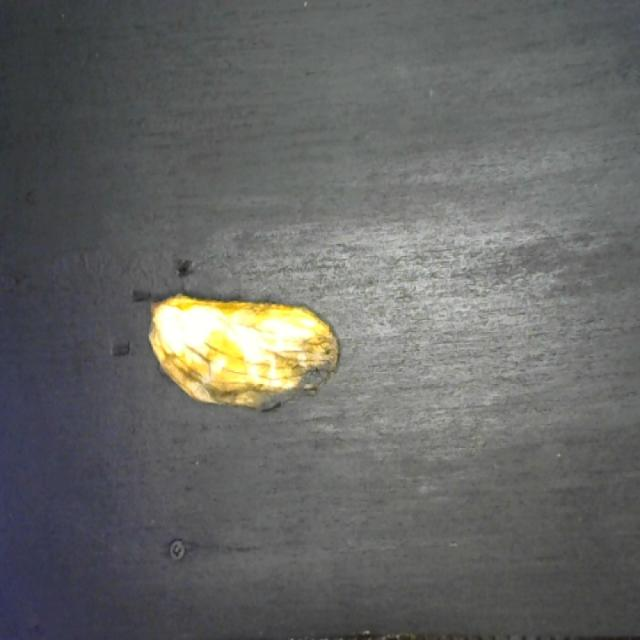biodegradable: (143, 289, 344, 423)
